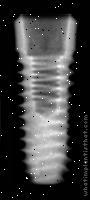Hiossen: (13, 15, 78, 186)
